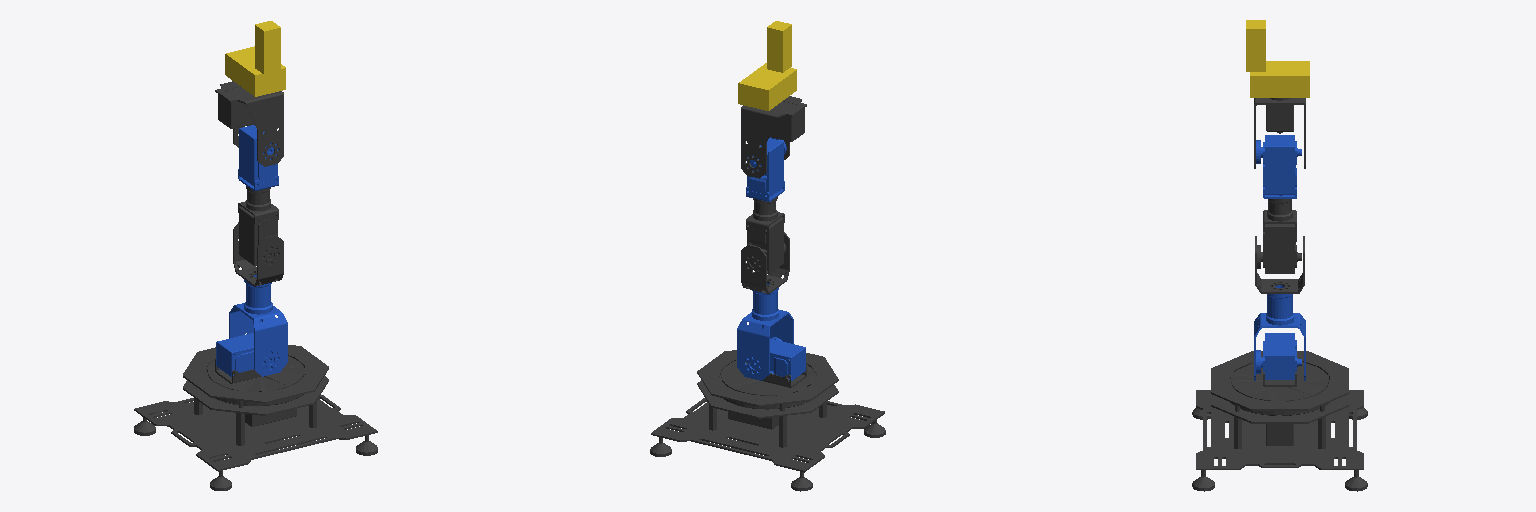
URDF robot description (alice_001):
<?xml version="1.0" encoding="utf-8"?>
<!--
  Alice 001 - Hiwonder xArm 1S (5 DOF + 2 gripper fingers = 7 DOF)

  Kinematic chain derived from XArm.STEP assembly + MuJoCo reference model.
  Meshes extracted from XArm.STEP, decimated and re-centered at link frames.
  Gripper fingers use box primitives (suitable for RL training).

  Joint offsets derived from assembly mesh boundary analysis:
    base_joint (Z-axis):     65mm above ground
    shoulder_joint (Y-axis): 15mm above base_joint
    elbow_joint (Y-axis):    86mm above shoulder
    wrist_pitch (Y-axis):    86mm above elbow
    wrist_roll (Z-axis):     43mm above wrist_pitch
    finger joints (Y-axis):  40mm above wrist_roll
-->
<robot name="alice_001">

  <!-- ==================== MATERIALS ==================== -->
  <material name="dark_grey">
    <color rgba="0.3 0.3 0.3 1.0"/>
  </material>
  <material name="blue">
    <color rgba="0.2 0.4 0.8 1.0"/>
  </material>
  <material name="yellow">
    <color rgba="0.9 0.8 0.2 1.0"/>
  </material>

  <!-- ==================== BASE LINK ==================== -->
  <link name="base_link">
    <visual>
      <origin xyz="0 0 0" rpy="0 0 0"/>
      <geometry>
        <mesh filename="package://meshes/visual/base_link.stl"/>
      </geometry>
      <material name="dark_grey"/>
    </visual>
    <collision>
      <origin xyz="0 0 0" rpy="0 0 0"/>
      <geometry>
        <mesh filename="package://meshes/collision/base_link.stl"/>
      </geometry>
    </collision>
    <inertial>
      <origin xyz="0 0 0.039" rpy="0 0 0"/>
      <mass value="0.25"/>
      <inertia ixx="0.0004" ixy="0" ixz="0"
               iyy="0.0004" iyz="0" izz="0.0006"/>
    </inertial>
  </link>

  <!-- ==================== BASE JOINT (turntable rotation) ==================== -->
  <joint name="base_joint" type="revolute">
    <parent link="base_link"/>
    <child link="shoulder_link"/>
    <origin xyz="0 0 0.065" rpy="0 0 0"/>
    <axis xyz="0 0 1"/>
    <limit lower="-3.14159" upper="3.14159" effort="2.5" velocity="5.24"/>
    <dynamics damping="0.1" friction="0.1"/>
  </joint>

  <!-- ==================== SHOULDER LINK ==================== -->
  <link name="shoulder_link">
    <visual>
      <origin xyz="0 0 0" rpy="0 0 0"/>
      <geometry>
        <mesh filename="package://meshes/visual/shoulder_link.stl"/>
      </geometry>
      <material name="blue"/>
    </visual>
    <collision>
      <origin xyz="0 0 0" rpy="0 0 0"/>
      <geometry>
        <mesh filename="package://meshes/collision/shoulder_link.stl"/>
      </geometry>
    </collision>
    <inertial>
      <origin xyz="-0.006 0 0.045" rpy="0 0 0"/>
      <mass value="0.15"/>
      <inertia ixx="0.0002" ixy="0" ixz="0"
               iyy="0.0002" iyz="0" izz="0.00008"/>
    </inertial>
  </link>

  <!-- ==================== SHOULDER JOINT ==================== -->
  <joint name="shoulder_joint" type="revolute">
    <parent link="shoulder_link"/>
    <child link="upper_arm_link"/>
    <origin xyz="0 0 0.086" rpy="0 0 0"/>
    <axis xyz="0 1 0"/>
    <limit lower="-1.5708" upper="1.5708" effort="2.5" velocity="5.24"/>
    <dynamics damping="0.1" friction="0.1"/>
  </joint>

  <!-- ==================== UPPER ARM LINK ==================== -->
  <link name="upper_arm_link">
    <visual>
      <origin xyz="0 0 0" rpy="0 0 0"/>
      <geometry>
        <mesh filename="package://meshes/visual/upper_arm_link.stl"/>
      </geometry>
      <material name="dark_grey"/>
    </visual>
    <collision>
      <origin xyz="0 0 0" rpy="0 0 0"/>
      <geometry>
        <mesh filename="package://meshes/collision/upper_arm_link.stl"/>
      </geometry>
    </collision>
    <inertial>
      <origin xyz="0.003 0 0.043" rpy="0 0 0"/>
      <mass value="0.15"/>
      <inertia ixx="0.0002" ixy="0" ixz="0"
               iyy="0.0002" iyz="0" izz="0.00003"/>
    </inertial>
  </link>

  <!-- ==================== ELBOW JOINT ==================== -->
  <joint name="elbow_joint" type="revolute">
    <parent link="upper_arm_link"/>
    <child link="lower_arm_link"/>
    <origin xyz="0 0 0.086" rpy="0 0 0"/>
    <axis xyz="0 1 0"/>
    <limit lower="-2.0944" upper="0" effort="2.5" velocity="5.24"/>
    <dynamics damping="0.1" friction="0.1"/>
  </joint>

  <!-- ==================== LOWER ARM LINK ==================== -->
  <link name="lower_arm_link">
    <visual>
      <origin xyz="0 0 0" rpy="0 0 0"/>
      <geometry>
        <mesh filename="package://meshes/visual/lower_arm_link.stl"/>
      </geometry>
      <material name="blue"/>
    </visual>
    <collision>
      <origin xyz="0 0 0" rpy="0 0 0"/>
      <geometry>
        <mesh filename="package://meshes/collision/lower_arm_link.stl"/>
      </geometry>
    </collision>
    <inertial>
      <origin xyz="0.003 0 0.024" rpy="0 0 0"/>
      <mass value="0.10"/>
      <inertia ixx="0.00008" ixy="0" ixz="0"
               iyy="0.00008" iyz="0" izz="0.00002"/>
    </inertial>
  </link>

  <!-- ==================== WRIST PITCH JOINT ==================== -->
  <joint name="wrist_pitch_joint" type="revolute">
    <parent link="lower_arm_link"/>
    <child link="wrist_link"/>
    <origin xyz="0 0 0.043" rpy="0 0 0"/>
    <axis xyz="0 1 0"/>
    <limit lower="-1.5708" upper="1.5708" effort="2.5" velocity="5.24"/>
    <dynamics damping="0.1" friction="0.1"/>
  </joint>

  <!-- ==================== WRIST LINK ==================== -->
  <link name="wrist_link">
    <visual>
      <origin xyz="0 0 0" rpy="0 0 0"/>
      <geometry>
        <mesh filename="package://meshes/visual/wrist_link.stl"/>
      </geometry>
      <material name="dark_grey"/>
    </visual>
    <collision>
      <origin xyz="0 0 0" rpy="0 0 0"/>
      <geometry>
        <mesh filename="package://meshes/collision/wrist_link.stl"/>
      </geometry>
    </collision>
    <inertial>
      <origin xyz="-0.008 0 0.016" rpy="0 0 0"/>
      <mass value="0.10"/>
      <inertia ixx="0.00008" ixy="0" ixz="0"
               iyy="0.00008" iyz="0" izz="0.00004"/>
    </inertial>
  </link>

  <!-- ==================== WRIST ROLL JOINT ==================== -->
  <joint name="wrist_roll_joint" type="revolute">
    <parent link="wrist_link"/>
    <child link="gripper_base"/>
    <origin xyz="0 0 0.050" rpy="0 0 0"/>
    <axis xyz="0 0 1"/>
    <limit lower="-3.14159" upper="3.14159" effort="2.5" velocity="5.24"/>
    <dynamics damping="0.1" friction="0.1"/>
  </joint>

  <!-- ==================== GRIPPER BASE ==================== -->
  <link name="gripper_base">
    <visual>
      <origin xyz="0 0 0.010" rpy="0 0 0"/>
      <geometry>
        <mesh filename="package://meshes/visual/gripper_base.stl"/>
      </geometry>
      <material name="yellow"/>
    </visual>
    <collision>
      <origin xyz="0 0 0.010" rpy="0 0 0"/>
      <geometry>
        <mesh filename="package://meshes/collision/gripper_base.stl"/>
      </geometry>
    </collision>
    <inertial>
      <origin xyz="0 0 0.010" rpy="0 0 0"/>
      <mass value="0.06"/>
      <inertia ixx="0.00002" ixy="0" ixz="0"
               iyy="0.00002" iyz="0" izz="0.00001"/>
    </inertial>
  </link>

  <!-- ==================== LEFT FINGER JOINT ==================== -->
  <joint name="left_finger_joint" type="revolute">
    <parent link="gripper_base"/>
    <child link="left_finger"/>
    <origin xyz="0 0.020 0.020" rpy="0 0 0"/>
    <axis xyz="0 1 0"/>
    <limit lower="0" upper="0.5236" effort="1.0" velocity="5.24"/>
    <dynamics damping="0.05" friction="0.05"/>
  </joint>

  <!-- ==================== LEFT FINGER ==================== -->
  <link name="left_finger">
    <visual>
      <origin xyz="0 0 0.020" rpy="0 0 0"/>
      <geometry>
        <mesh filename="package://meshes/visual/left_finger.stl"/>
      </geometry>
      <material name="yellow"/>
    </visual>
    <collision>
      <origin xyz="0 0 0.020" rpy="0 0 0"/>
      <geometry>
        <mesh filename="package://meshes/collision/left_finger.stl"/>
      </geometry>
    </collision>
    <inertial>
      <origin xyz="0 0 0.020" rpy="0 0 0"/>
      <mass value="0.02"/>
      <inertia ixx="0.000004" ixy="0" ixz="0"
               iyy="0.000004" iyz="0" izz="0.000001"/>
    </inertial>
  </link>

  <!-- ==================== RIGHT FINGER JOINT ==================== -->
  <joint name="right_finger_joint" type="revolute">
    <parent link="gripper_base"/>
    <child link="right_finger"/>
    <origin xyz="0 -0.020 0.020" rpy="0 0 0"/>
    <axis xyz="0 1 0"/>
    <limit lower="-0.5236" upper="0" effort="1.0" velocity="5.24"/>
    <dynamics damping="0.05" friction="0.05"/>
  </joint>

  <!-- ==================== RIGHT FINGER ==================== -->
  <link name="right_finger">
    <visual>
      <origin xyz="0 0 0.020" rpy="0 0 0"/>
      <geometry>
        <mesh filename="package://meshes/visual/right_finger.stl"/>
      </geometry>
      <material name="yellow"/>
    </visual>
    <collision>
      <origin xyz="0 0 0.020" rpy="0 0 0"/>
      <geometry>
        <mesh filename="package://meshes/collision/right_finger.stl"/>
      </geometry>
    </collision>
    <inertial>
      <origin xyz="0 0 0.020" rpy="0 0 0"/>
      <mass value="0.02"/>
      <inertia ixx="0.000004" ixy="0" ixz="0"
               iyy="0.000004" iyz="0" izz="0.000001"/>
    </inertial>
  </link>

</robot>

--- Render facts (derived) ---
The picture shows the robot from 3 angles, left to right: view 1: azimuth 30°, elevation 25°; view 2: azimuth 150°, elevation 25°; view 3: azimuth 270°, elevation 25°; orthographic projection.
Model alice_001 with 8 links and 7 joints (7 revolute), rooted at base_link, posed every joint at zero.
Visible links, largest first — view 1: base_link, shoulder_link, upper_arm_link, wrist_link, gripper_base, lower_arm_link, right_finger; view 2: base_link, shoulder_link, upper_arm_link, wrist_link, gripper_base, lower_arm_link, right_finger; view 3: base_link, upper_arm_link, shoulder_link, lower_arm_link, gripper_base, wrist_link, right_finger.
Link boxes in pixels (box(x1,y1,x2,y2)): base_link: box(134, 345, 377, 490); shoulder_link: box(216, 275, 287, 376); upper_arm_link: box(233, 186, 283, 286); wrist_link: box(215, 81, 283, 166); gripper_base: box(225, 46, 285, 96); lower_arm_link: box(238, 125, 278, 190); right_finger: box(255, 21, 280, 74); base_link: box(650, 350, 885, 491); shoulder_link: box(737, 283, 805, 380); upper_arm_link: box(741, 196, 789, 293); wrist_link: box(741, 96, 806, 178); gripper_base: box(738, 63, 796, 110); lower_arm_link: box(746, 137, 786, 201); right_finger: box(767, 21, 791, 72); base_link: box(1192, 351, 1367, 491); upper_arm_link: box(1255, 199, 1304, 293); shoulder_link: box(1254, 285, 1305, 380); lower_arm_link: box(1256, 135, 1301, 198); gripper_base: box(1250, 61, 1309, 97); wrist_link: box(1254, 98, 1305, 168); right_finger: box(1246, 20, 1265, 71).
Size in the robot's own frame: 0.1596 by 0.1454 by 0.39 metres.
7 mesh visuals loaded from 8 distinct referenced files (7 binary STL); not drawn: 1 (reference not matched to a file when rendering).
